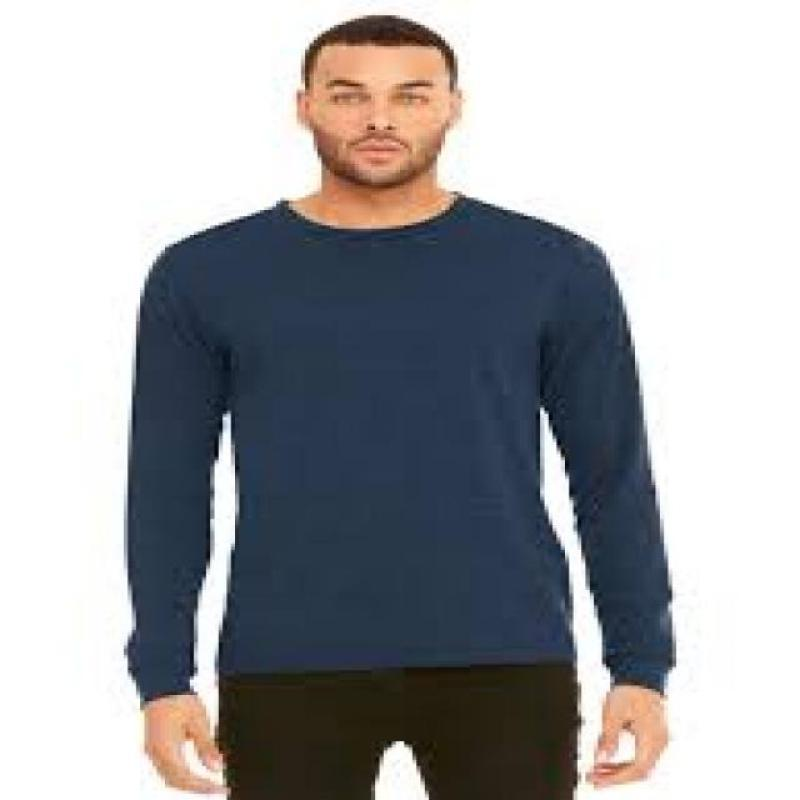sweater: (122, 192, 680, 713)
trousers: (212, 659, 586, 800)
